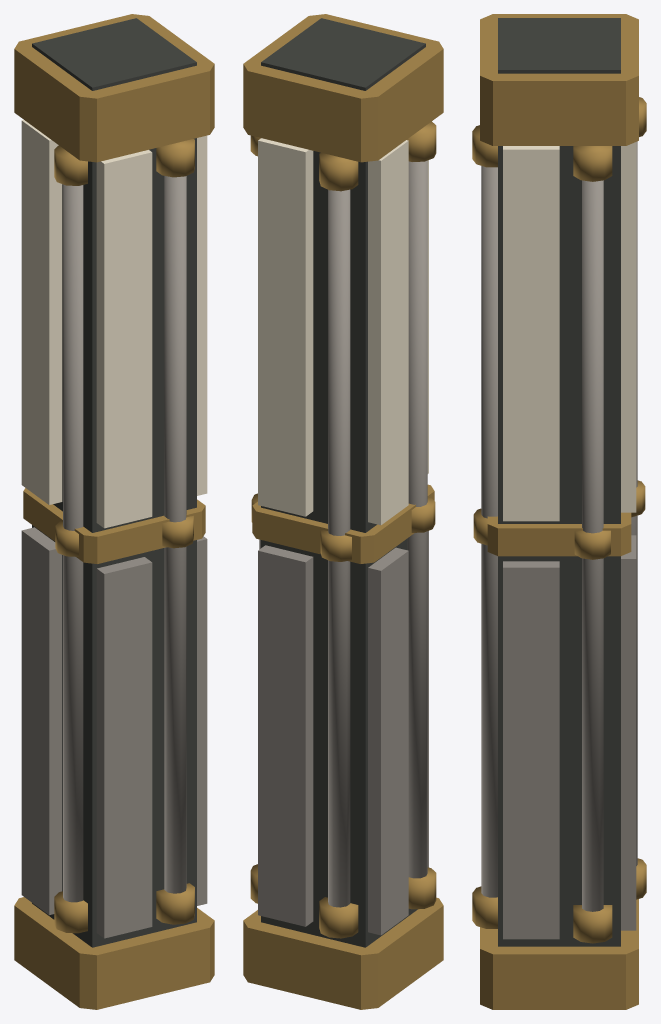
The model's file is b3_pillar.glb.
3 renders of one model, left to right at view 1: azimuth 30°, elevation 25°; view 2: azimuth 150°, elevation 25°; view 3: azimuth 270°, elevation 25°, orthographic.
Visible parts, largest first — view 1: b3_pillar; view 2: b3_pillar; view 3: b3_pillar.
Boxes of the visible parts, bbox=[...] form: b3_pillar: bbox=[14, 14, 214, 1009]; b3_pillar: bbox=[243, 14, 443, 1009]; b3_pillar: bbox=[472, 14, 646, 1009].
Size of the model in its own units: 0.68 by 4.01 by 0.68.
